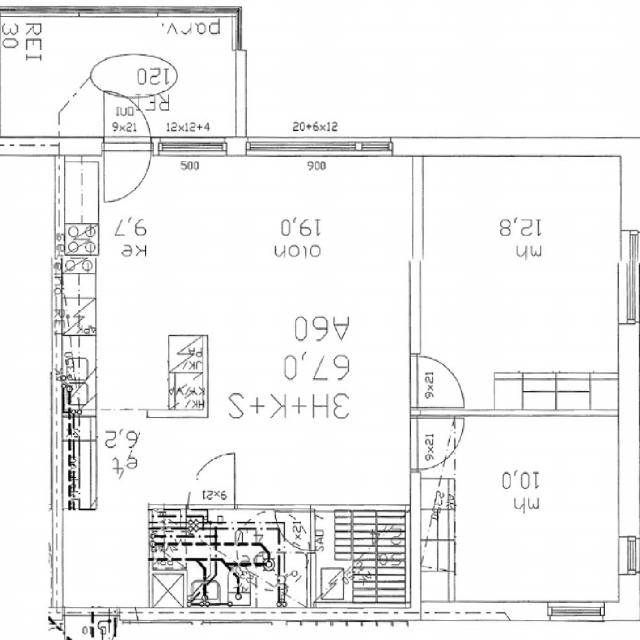door: (104, 137, 150, 207), (104, 86, 150, 155), (410, 355, 467, 407), (410, 418, 467, 469), (187, 452, 234, 508), (64, 606, 117, 640), (275, 510, 315, 549)
